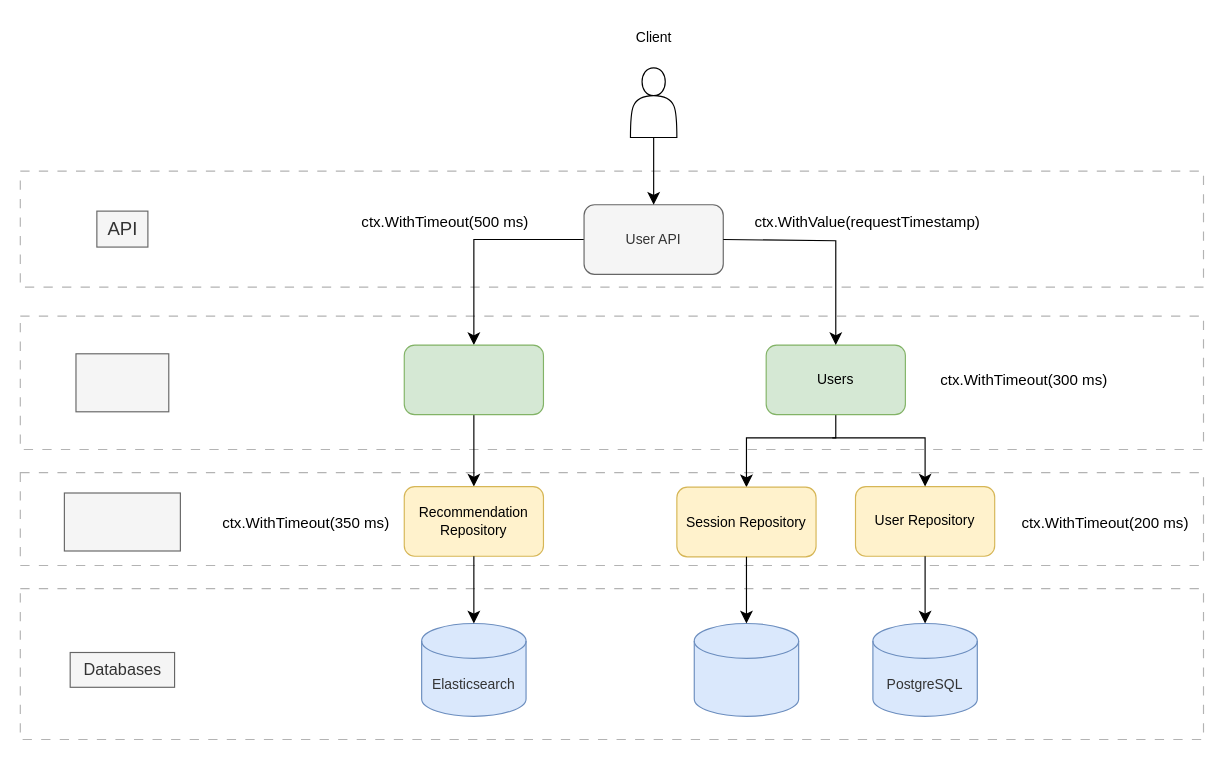
The diagram is 1224 pixels wide and 760 high, and some of its shapes have lost their labels. The centre of each missing label's shape, as x and y in pixels:
"Business Layer" goes at (122,382).
"Persistance Layer" goes at (121,521).
"Recommandations" goes at (473,379).
"Redis" goes at (746,669).
